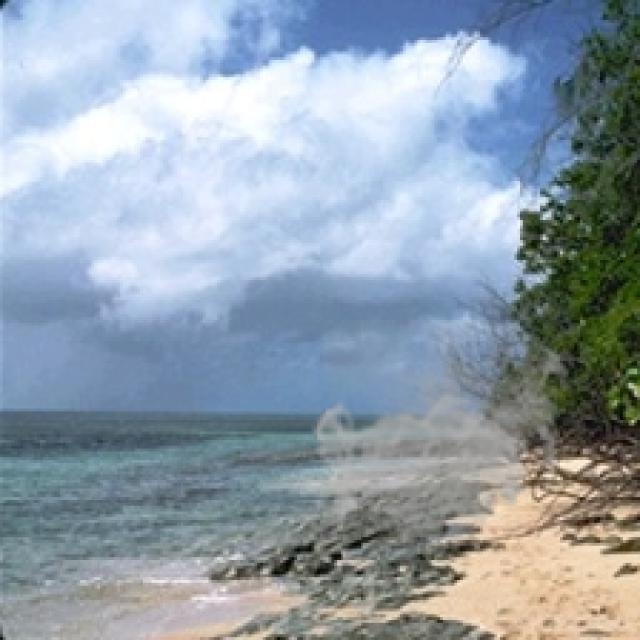smoke: (309, 320, 577, 560)
